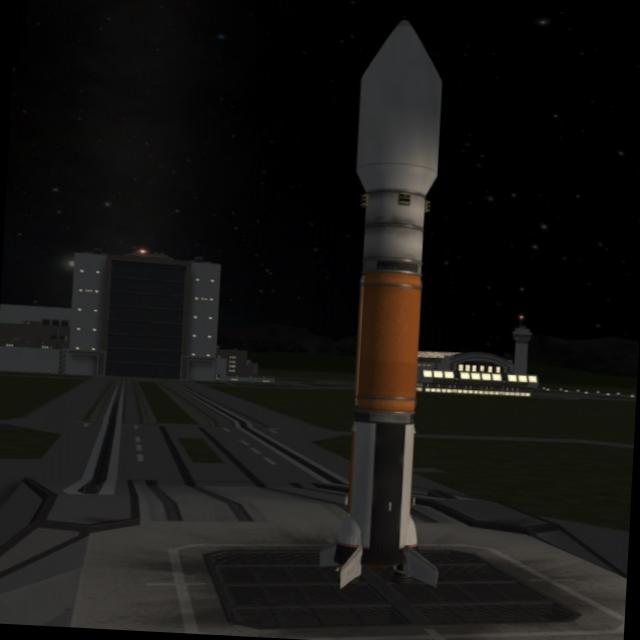rocket: (332, 21, 468, 602)
